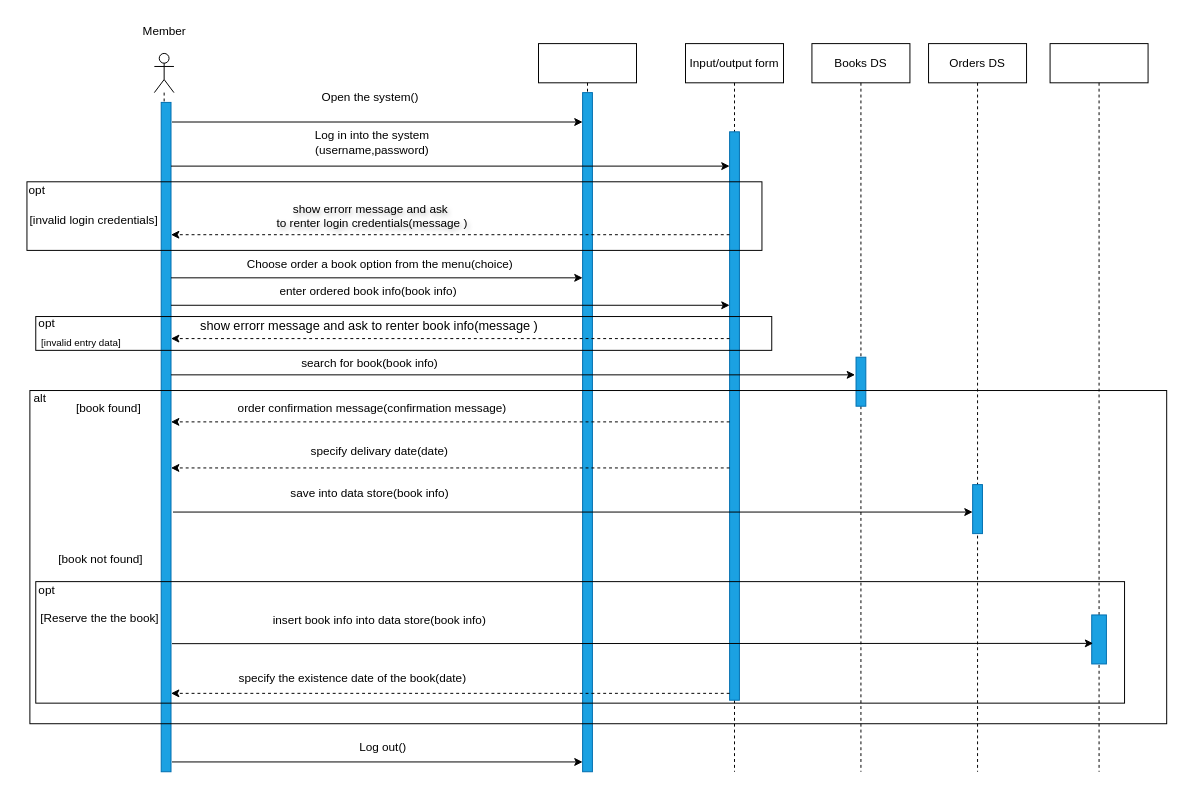
Some shapes in this 1184 by 789 pixel diagram are drawn without their labels. The shapes that lost their labels are listed below. From the top down, each one's box as (x1, y1, x2, y2) in pixels, then its label:
(538, 43, 637, 622): System menu
(1049, 43, 1148, 772): Reservations DS
